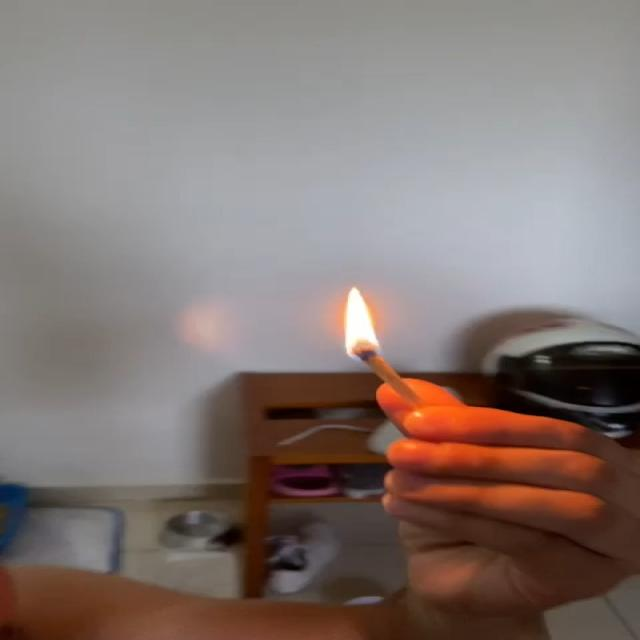fogo-ypXI: (344, 285, 382, 364)
